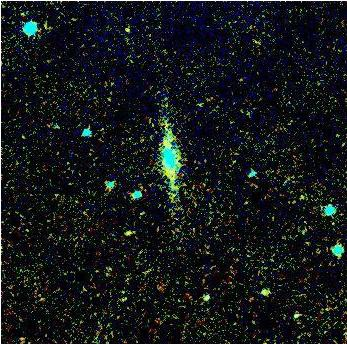star: (115, 217, 145, 247)
